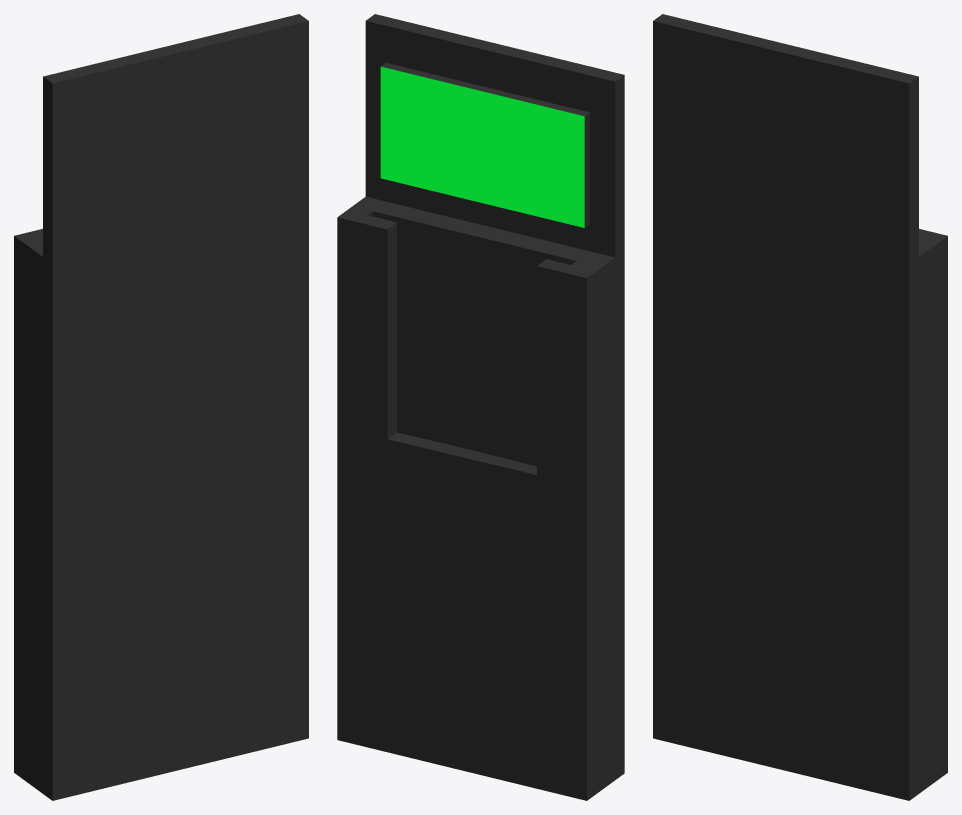
Rendered from lector.fbx.
3 views of the same model, side by side, from view 1: azimuth 30°, elevation 25°; view 2: azimuth 150°, elevation 25°; view 3: azimuth 330°, elevation 25° (orthographic). The views are drawn at different scales.
Parts seen in each view (by area): view 1: lector; view 2: lector; view 3: lector.
Boxes of the visible parts, x1,y1,x2,y2 form: lector: [14, 14, 308, 800]; lector: [337, 14, 624, 800]; lector: [653, 14, 947, 800].
Bounding box in the file's own units: 2.25 × 6.03 × 0.5873.
